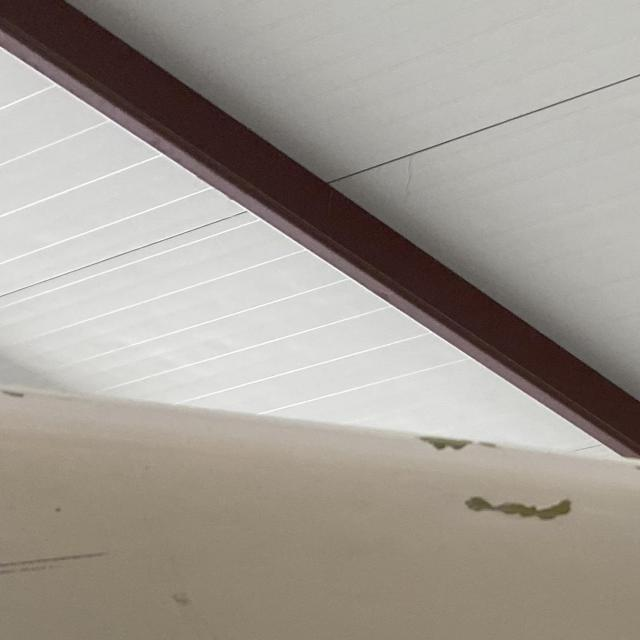Paint-off: (462, 494, 570, 520), (417, 433, 471, 450), (0, 383, 38, 402), (473, 441, 495, 445)
